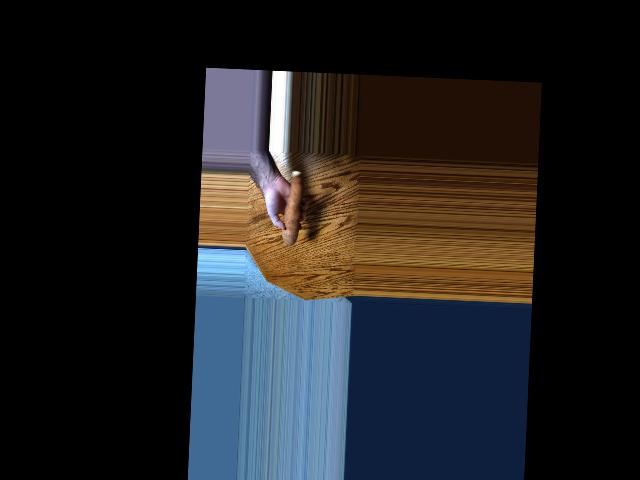sweet_potato: (285, 176, 307, 246)
